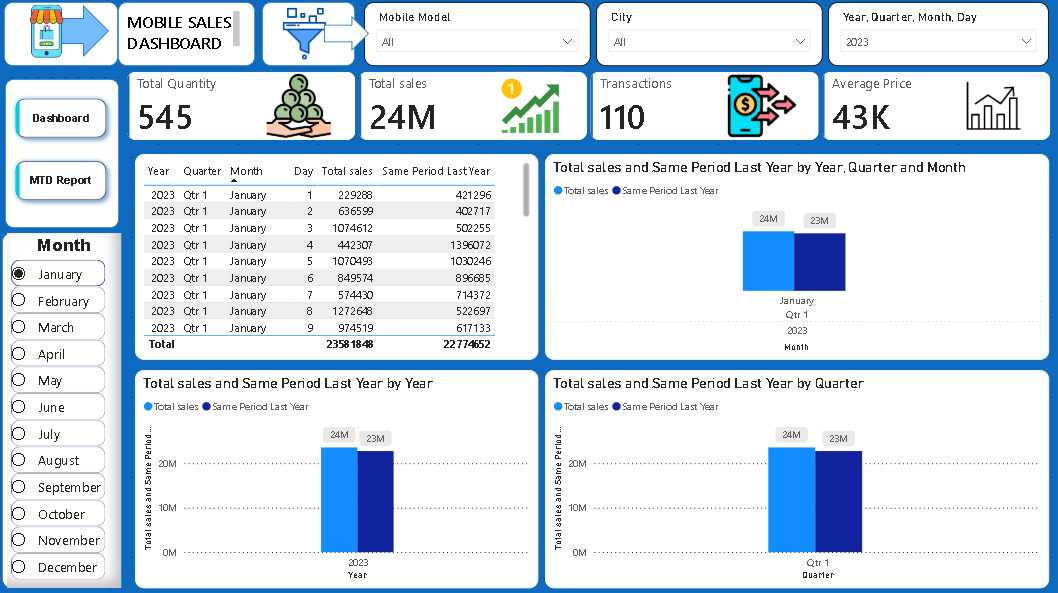

The dashboard page shown, as its layout file describes it:
{"tool":"powerbi","page":{"name":"Sales Period Last Year","canvas":[1280,720],"ordinal":2},"visuals":[{"type":"shape","box":[7.5,6,136.8,76.8],"z":0},{"type":"shape","box":[8.4,98.4,136.8,178.8],"z":1000},{"type":"cardVisual","fields":{"Data":["Sheet1 (2).Total Quantity","Sheet1 (2).Total sales2","Sheet1 (2).Total Transaction","Sheet1 (2).Average Price"]},"box":[142.8,75.6,1135.2,108],"z":2000},{"type":"slicer","fields":{"Values":["Sheet1 (2).Mobile Model"]},"box":[439.3,6,271.6,76.8],"z":3000},{"type":"slicer","fields":{"Values":["Sheet1 (2).City"]},"box":[717.2,6,272.4,76.8],"z":4000},{"type":"slicer","fields":{"Values":["Custom calendar.Date.Variation.Date Hierarchy.Year","Custom calendar.Date.Variation.Date Hierarchy.Quarter","Custom calendar.Date.Variation.Date Hierarchy.Month","Custom calendar.Date.Variation.Date Hierarchy.Day"]},"box":[995.6,6,265.2,76.8],"z":5000},{"type":"shape","box":[317.1,6,111.6,76.8],"z":6000},{"type":"image","box":[317.1,12,102,63.6],"z":7000},{"type":"shape","box":[391.5,22.8,54,42],"z":8000},{"type":"shape","box":[144.1,6,164.4,76.8],"z":9000},{"type":"textbox","box":[150.1,12,145.2,56.4],"z":10000},{"type":"shape","box":[4.8,283.2,136.8,426],"z":12000},{"type":"listSlicer","fields":{"Values":["Custom calendar.Date.Variation.Date Hierarchy.Month"]},"box":[10.8,283.2,136.8,426],"z":13000},{"type":"tableEx","fields":{"Values":["Custom calendar.Date.Variation.Date Hierarchy.Year","Custom calendar.Date.Variation.Date Hierarchy.Quarter","Custom calendar.Date.Variation.Date Hierarchy.Month","Custom calendar.Date.Variation.Date Hierarchy.Day","Main Table.Total sales","Main Table.Sales Period Last Year"]},"box":[164.4,188.4,483.6,247.2],"z":14000},{"type":"clusteredColumnChart","fields":{"Category":["Custom calendar.Date.Variation.Date Hierarchy.Year","Custom calendar.Date.Variation.Date Hierarchy.Quarter","Custom calendar.Date.Variation.Date Hierarchy.Month","Custom calendar.Date.Variation.Date Hierarchy.Day"],"Y":["Main Table.Total sales","Main Table.Same Period Last Year"]},"box":[656.4,447.6,604.8,261.6],"z":15000},{"type":"clusteredColumnChart","fields":{"Y":["Main Table.Total sales","Main Table.Same Period Last Year"],"Category":["Custom calendar.Date.Variation.Date Hierarchy.Year","Custom calendar.Date.Variation.Date Hierarchy.Quarter","Custom calendar.Date.Variation.Date Hierarchy.Month"]},"box":[656.4,188.4,604.8,247.2],"z":16000},{"type":"clusteredColumnChart","fields":{"Category":["Custom calendar.Date.Variation.Date Hierarchy.Year","Custom calendar.Date.Variation.Date Hierarchy.Quarter","Custom calendar.Date.Variation.Date Hierarchy.Month","Custom calendar.Date.Variation.Date Hierarchy.Day"],"Y":["Main Table.Total sales","Main Table.Same Period Last Year"]},"box":[164.4,447.6,483.6,261.6],"z":17000},{"type":"pageNavigator","box":[12,112.8,127.2,141.6],"z":18000},{"type":"shape","box":[45.9,9.6,87.6,62.4],"z":19500},{"type":"image","box":[-0.9,6,118.8,69.6],"z":20000}]}

Visuals, with their boxes in screenshot pixels (x1, y1, x2, y2), scaled from the page's 1280x720 canvas onto the 1058x593 screenshot:
shape: bbox(6, 5, 119, 68)
shape: bbox(7, 81, 120, 228)
cardVisual - Sheet1 (2).Total Quantity x Sheet1 (2).Total sales2: bbox(118, 62, 1056, 151)
slicer - Sheet1 (2).Mobile Model: bbox(363, 5, 588, 68)
slicer - Sheet1 (2).City: bbox(593, 5, 818, 68)
slicer - Custom calendar.Date.Variation.Date Hierarchy.Year x Custom calendar.Date.Variation.Date Hierarchy.Quarter: bbox(823, 5, 1042, 68)
shape: bbox(262, 5, 354, 68)
image: bbox(262, 10, 346, 62)
shape: bbox(324, 19, 368, 53)
shape: bbox(119, 5, 255, 68)
textbox: bbox(124, 10, 244, 56)
shape: bbox(4, 233, 117, 584)
listSlicer - Custom calendar.Date.Variation.Date Hierarchy.Month: bbox(9, 233, 122, 584)
tableEx - Custom calendar.Date.Variation.Date Hierarchy.Year x Custom calendar.Date.Variation.Date Hierarchy.Quarter: bbox(136, 155, 536, 359)
clusteredColumnChart - Custom calendar.Date.Variation.Date Hierarchy.Year x Custom calendar.Date.Variation.Date Hierarchy.Quarter: bbox(543, 369, 1042, 584)
clusteredColumnChart - Main Table.Total sales x Main Table.Same Period Last Year: bbox(543, 155, 1042, 359)
clusteredColumnChart - Custom calendar.Date.Variation.Date Hierarchy.Year x Custom calendar.Date.Variation.Date Hierarchy.Quarter: bbox(136, 369, 536, 584)
pageNavigator: bbox(10, 93, 115, 210)
shape: bbox(38, 8, 110, 59)
image: bbox(0, 5, 97, 62)
